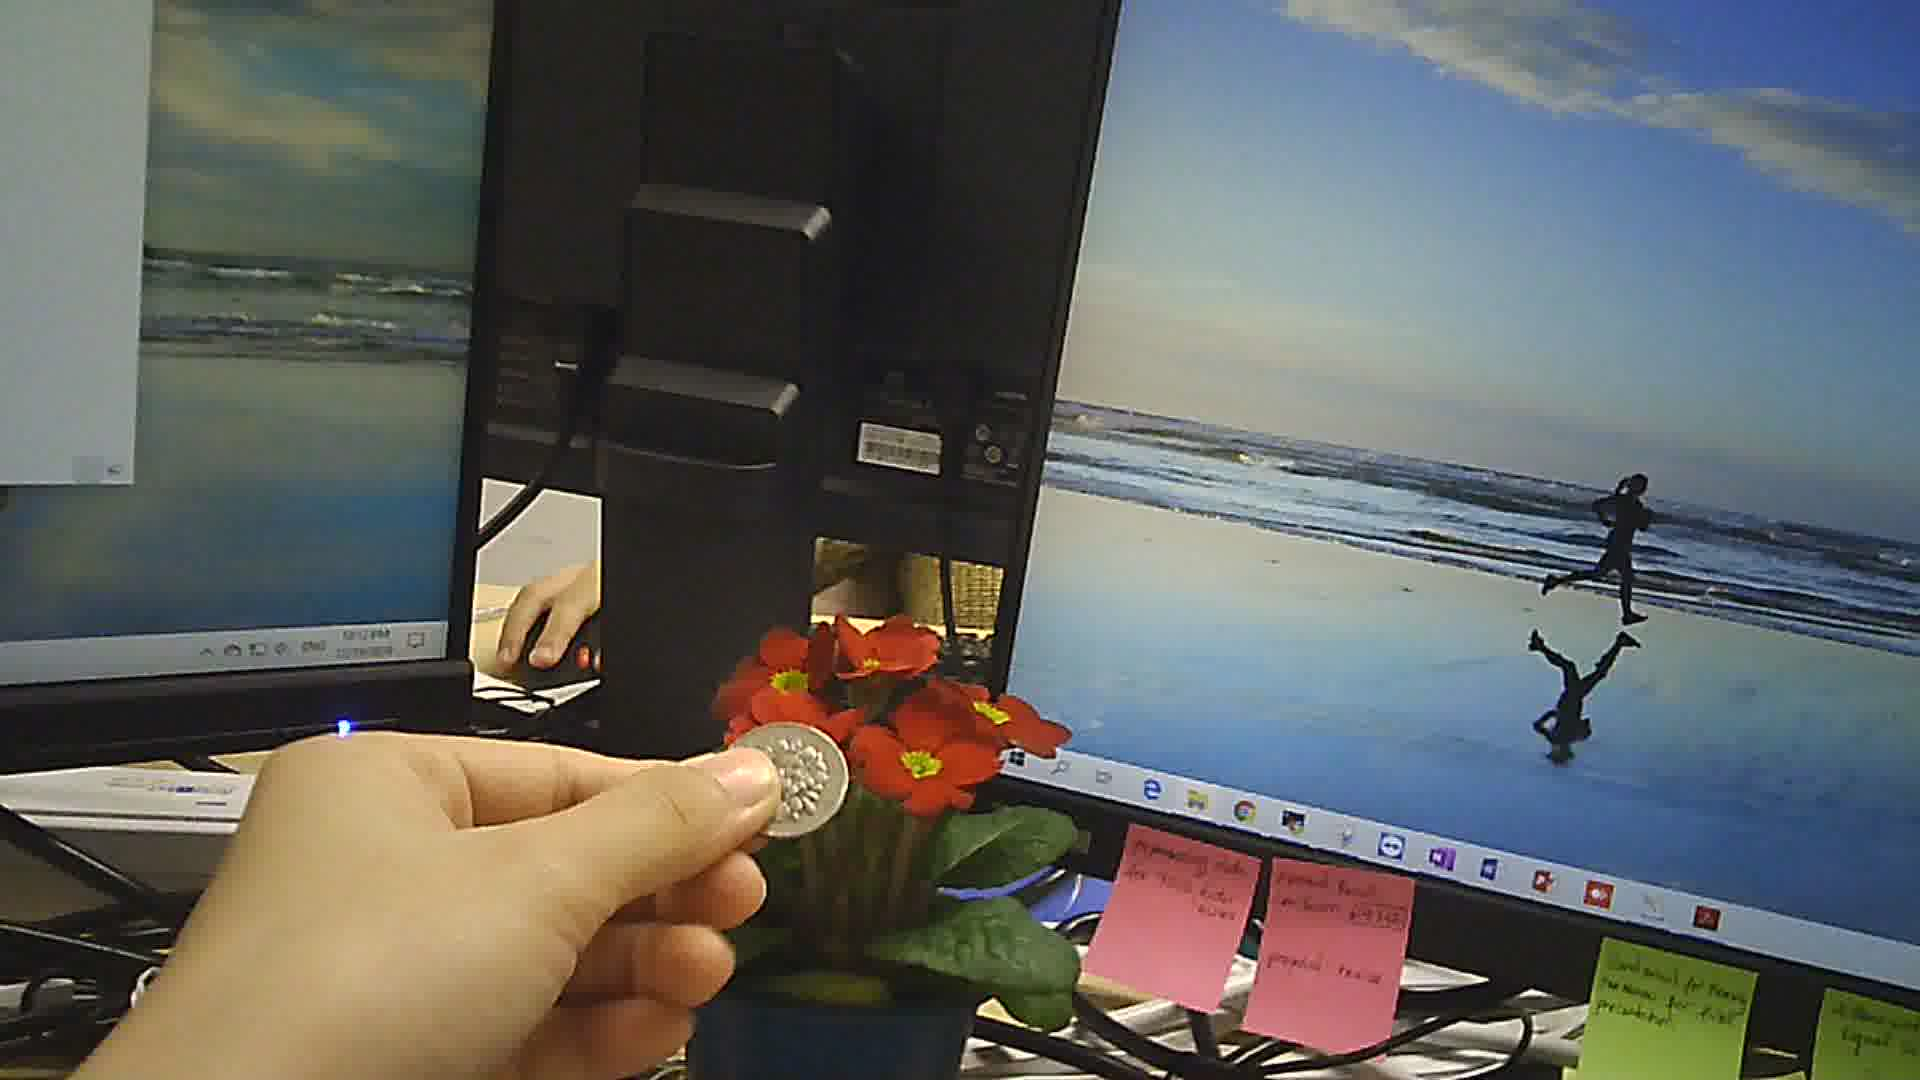100 Yen: (713, 720, 857, 837)
